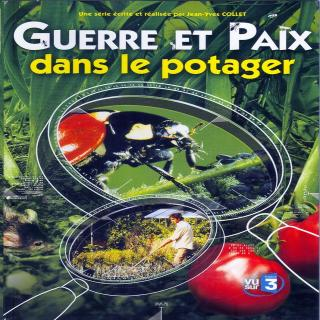tomato: (194, 246, 292, 314), (270, 210, 320, 272)
